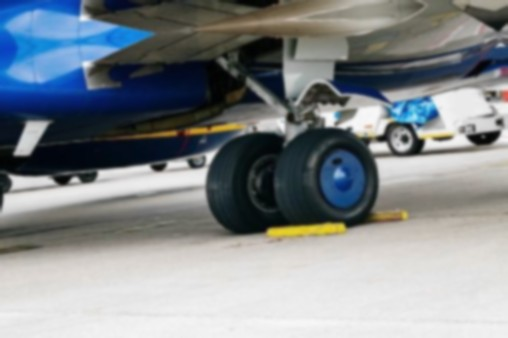chock: (262, 219, 347, 243), (336, 206, 412, 228)
wheel: (270, 120, 387, 233), (202, 128, 300, 237), (384, 120, 428, 158), (467, 129, 504, 145), (409, 137, 428, 154), (0, 173, 13, 194), (78, 171, 99, 183), (188, 155, 207, 168), (53, 174, 73, 185), (433, 134, 455, 141), (151, 162, 168, 171), (375, 134, 388, 142)
